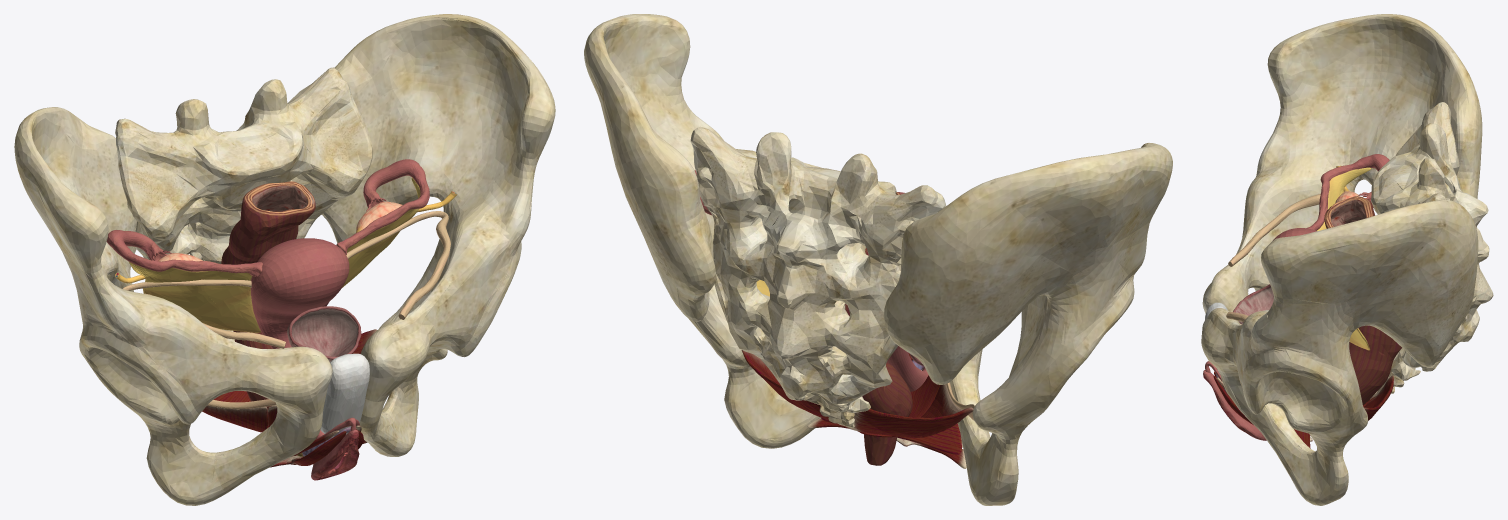
The model's file is stanford-female-pelvis.glb.
3 renders of one model, left to right at view 1: azimuth 30°, elevation 25°; view 2: azimuth 150°, elevation 25°; view 3: azimuth 270°, elevation 25°, orthographic. The views are drawn at different scales.
Visible parts, largest first — view 1: hip-l, hip-r, sacrum, broad-ligament, rectum, fundus, round-ligament, bladder, tube-r, tube-l, body, levator-ani (+3 smaller); view 2: hip-r, sacrum, hip-l, levator-ani (×2), rectum, perineal, vagina; view 3: hip-l, hip-r, sacrum, rectum, tube-r, round-ligament, broad-ligament, vagina, bladder, levator-ani.
Part boxes in pixels (<box>): hip-l: <box>321,14,555,456</box>; hip-r: <box>14,107,356,505</box>; sacrum: <box>115,67,372,341</box>; broad-ligament: <box>129,177,420,332</box>; rectum: <box>221,181,315,464</box>; fundus: <box>251,238,349,294</box>; round-ligament: <box>123,211,450,348</box>; bladder: <box>287,306,361,361</box>; tube-r: <box>106,230,262,276</box>; tube-l: <box>336,159,429,254</box>; body: <box>250,273,348,323</box>; levator-ani: <box>202,329,376,432</box>; hip-r: <box>883,143,1172,505</box>; sacrum: <box>690,126,945,428</box>; hip-l: <box>584,14,820,448</box>; levator-ani (×2): <box>741,350,973,437</box>; rectum: <box>845,192,912,465</box>; perineal: <box>821,353,961,454</box>; vagina: <box>887,356,928,391</box>; hip-l: <box>1201,199,1478,505</box>; hip-r: <box>1202,14,1482,324</box>; sacrum: <box>1371,102,1493,393</box>; rectum: <box>1324,196,1401,404</box>; tube-r: <box>1306,154,1389,230</box>; round-ligament: <box>1226,189,1350,321</box>; broad-ligament: <box>1317,167,1371,350</box>; vagina: <box>1203,370,1266,440</box>; bladder: <box>1233,284,1273,324</box>; levator-ani: <box>1363,375,1393,420</box>.
Bounding box in the file's own units: 28.02 × 20.58 × 15.72.
10 materials, 10 textured.
